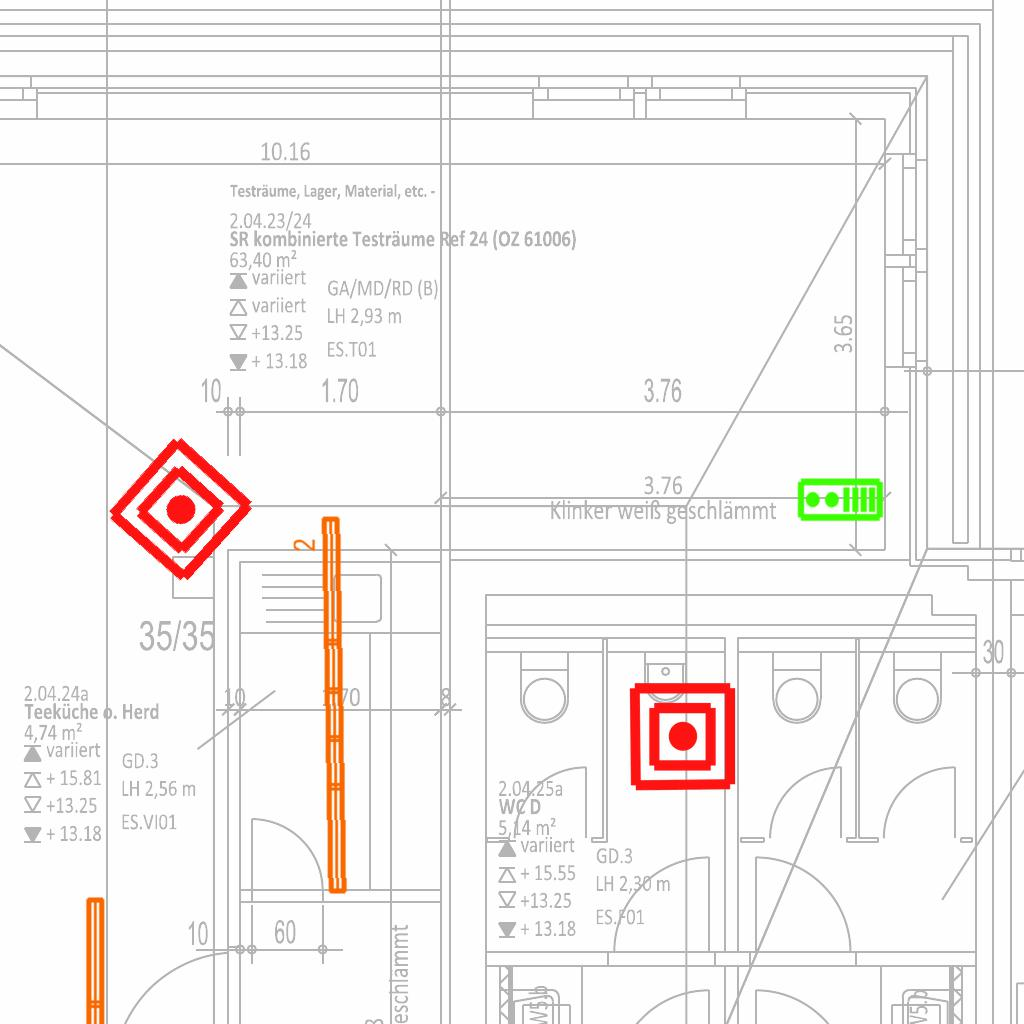Ambulanz_Pendelleuchte_LED: (290, 512, 353, 900), (80, 892, 136, 1024)
Gegensprechanlage_mit_Video: (796, 477, 884, 524)
NAM-Nichtautomatischer_Melder: (100, 429, 261, 590), (626, 680, 739, 793)
